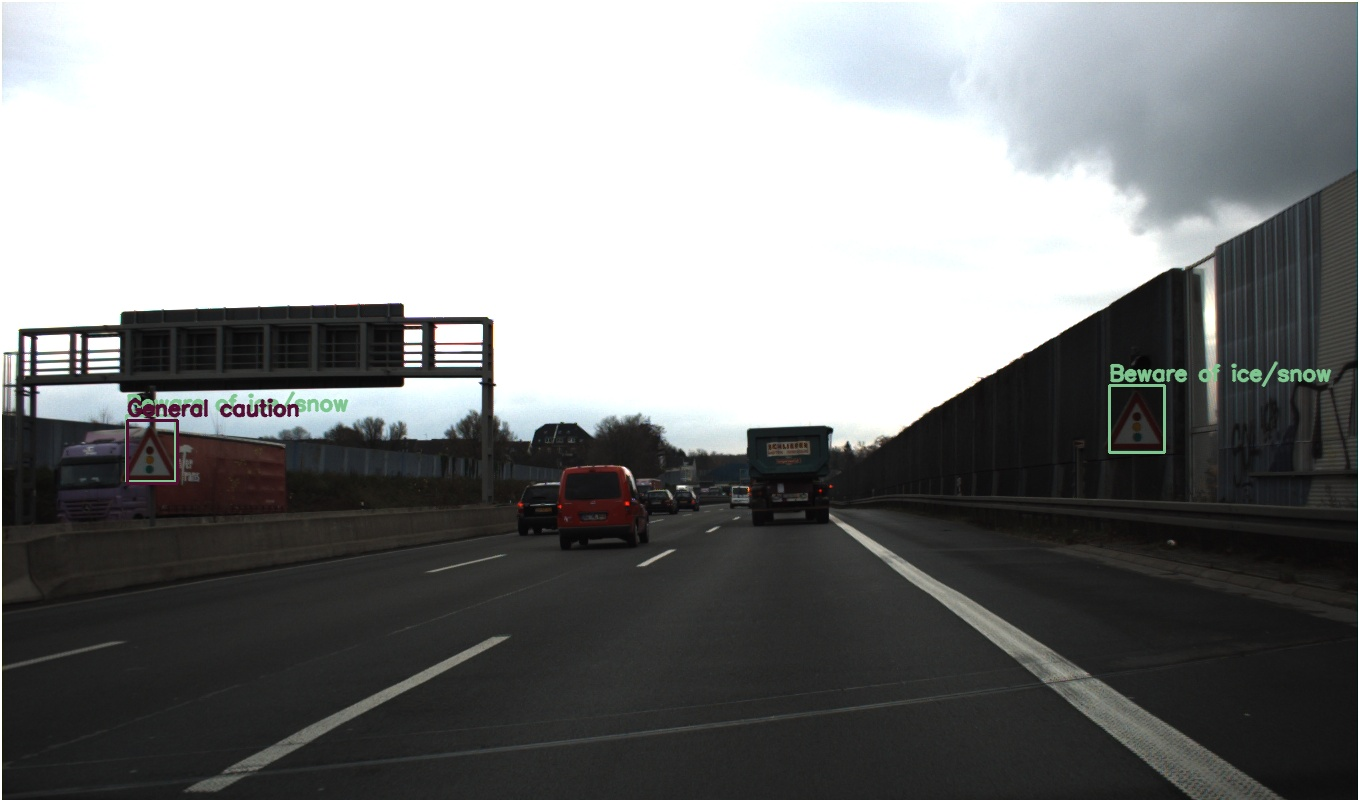Go straight or right: (834, 380, 856, 402)
Priority road: (859, 387, 886, 414)
